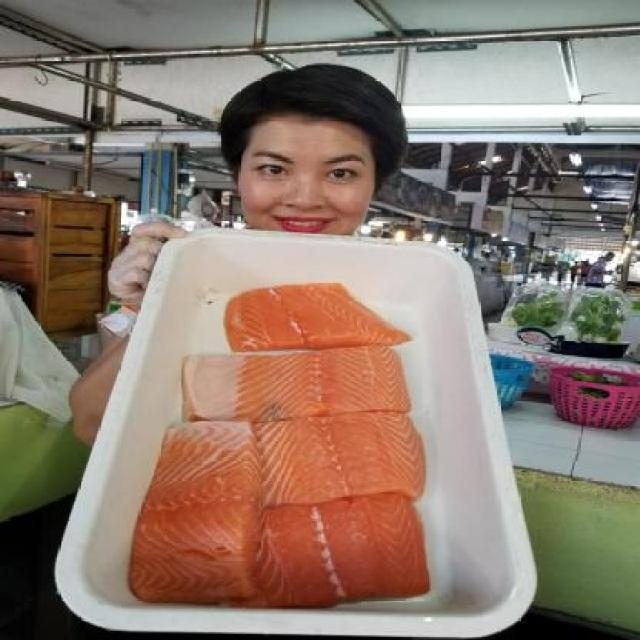salmon: (126, 419, 258, 606), (260, 496, 452, 606), (161, 343, 424, 415), (203, 277, 419, 350), (249, 420, 434, 502)
